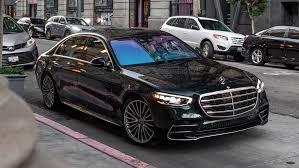mercedes: (216, 74, 226, 85)
